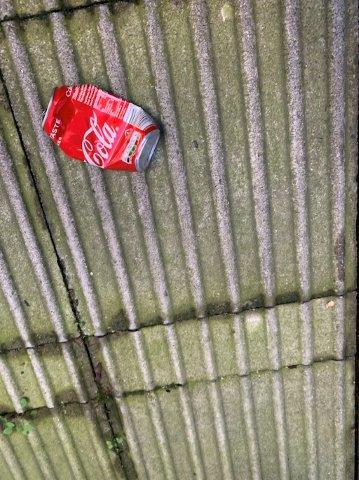kaleng: (44, 86, 160, 171)
